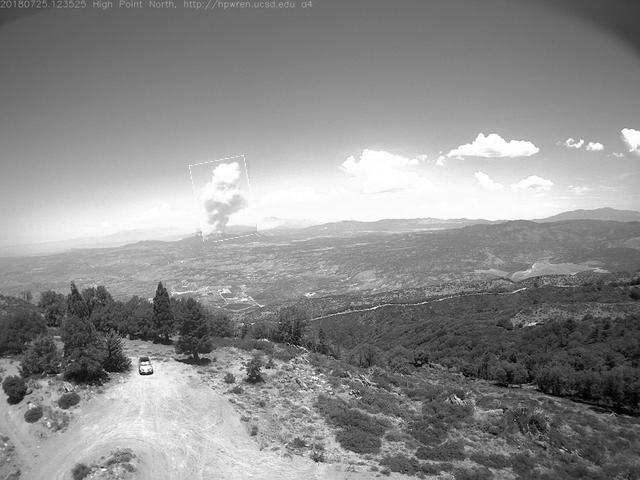smoke: (194, 159, 256, 242)
